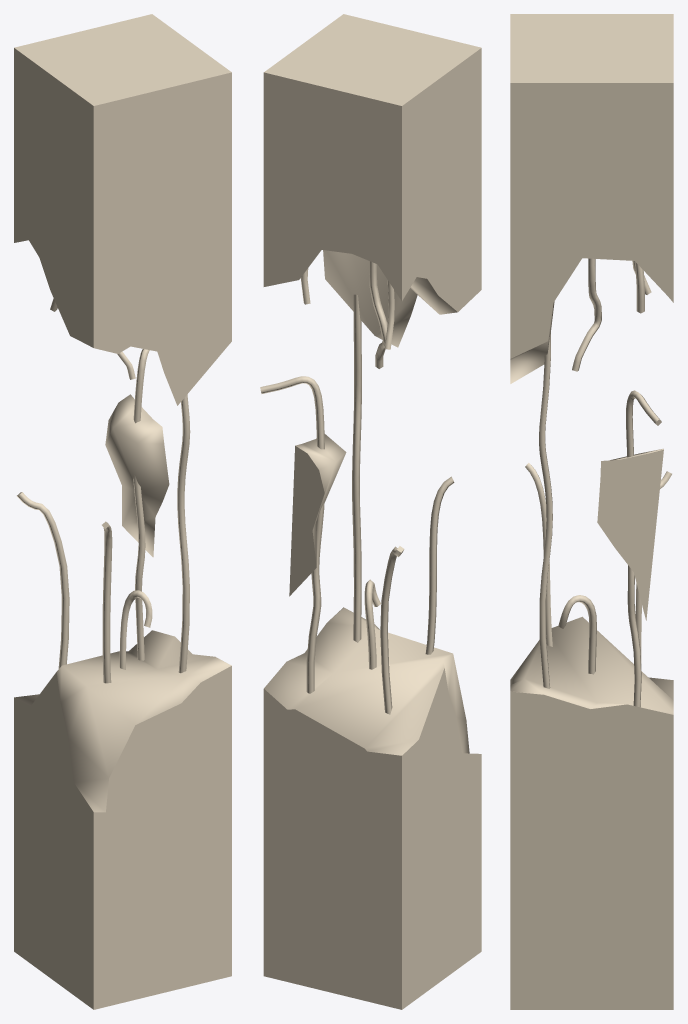
Rendered from ConcreteStack_04.fbx.
3 renders of one model, left to right at view 1: azimuth 30°, elevation 25°; view 2: azimuth 150°, elevation 25°; view 3: azimuth 270°, elevation 25°, orthographic. The views are drawn at different scales.
Parts seen in each view (by area): view 1: Concrete_Stack_04_LOD0; view 2: Concrete_Stack_04_LOD0; view 3: Concrete_Stack_04_LOD0.
Part boxes in pixels (x1,y1,x2,y2): Concrete_Stack_04_LOD0: (14,14,231,1009); Concrete_Stack_04_LOD0: (260,14,481,1009); Concrete_Stack_04_LOD0: (510,14,673,1009).
Size of what is drawn, in the model's own units: 0.4347 by 2.5 by 0.4.
